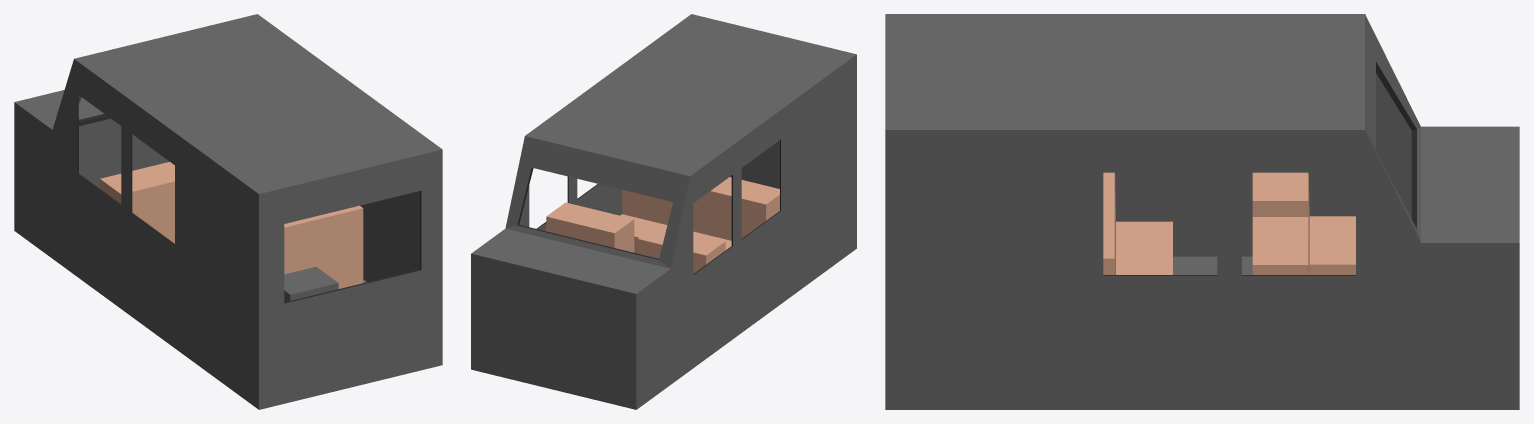
The model's file is CAR.fbx.
3 renders of one model, left to right at view 1: azimuth 30°, elevation 25°; view 2: azimuth 150°, elevation 25°; view 3: azimuth 270°, elevation 25°, orthographic. The views are drawn at different scales.
Visible parts, largest first — view 1: Cube; view 2: Cube; view 3: Cube.
Boxes of the visible parts, left/top/right/bottom form: Cube: left=14, top=14, right=442, bottom=409; Cube: left=471, top=14, right=856, bottom=409; Cube: left=885, top=14, right=1519, bottom=409.
Size of the model in its own units: 482 by 542 by 1114.
